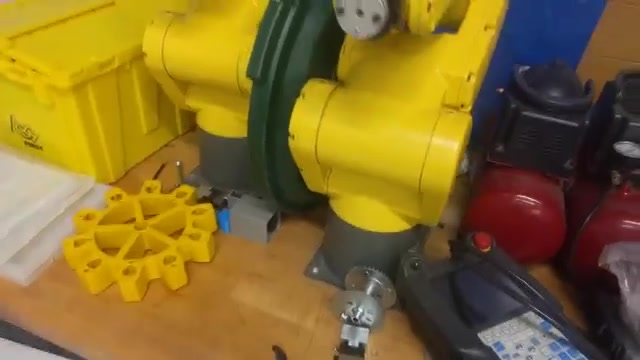gear: (58, 177, 224, 292)
